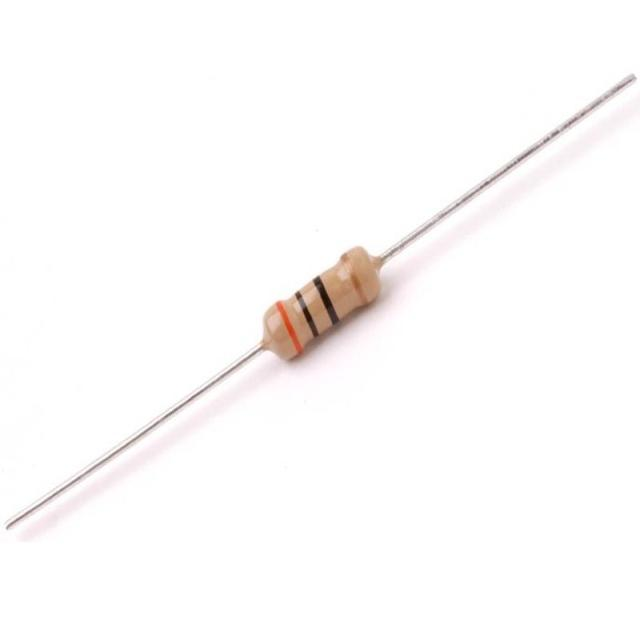Resistor: (248, 191, 404, 379)
